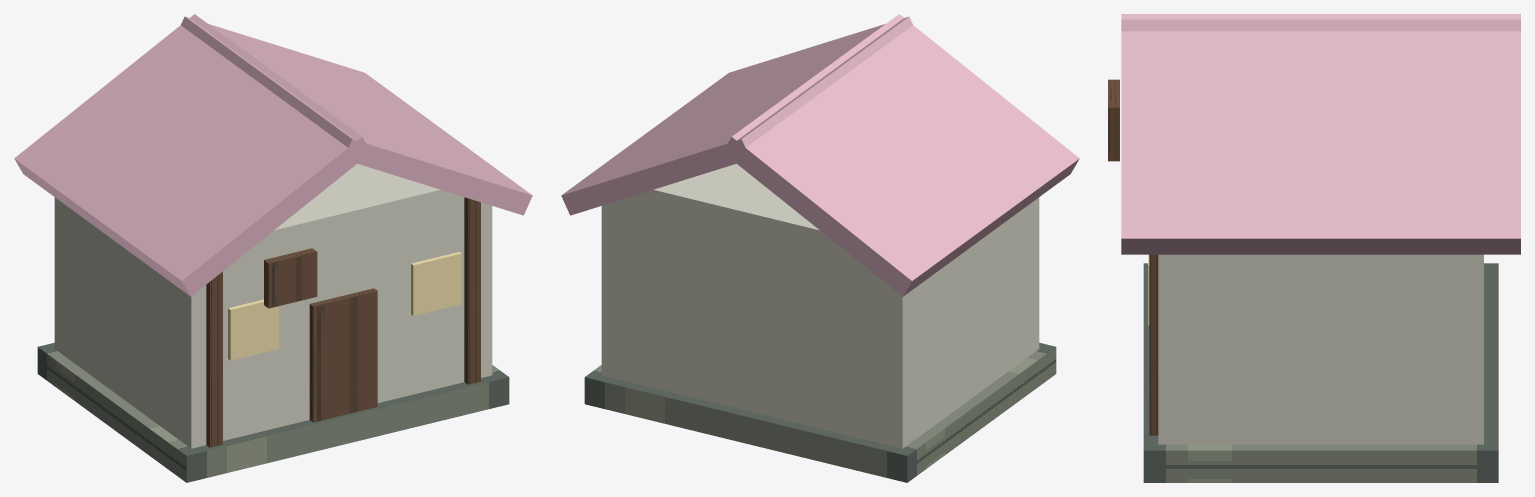
File: building_tavern.glb
The picture shows the model from 3 angles, left to right: view 1: azimuth 30°, elevation 25°; view 2: azimuth 150°, elevation 25°; view 3: azimuth 270°, elevation 25°; orthographic projection. The views are drawn at different scales.
Parts seen in each view (by area): view 1: Body.001, Roof.002, Roof.003, Foundation.001, Door.001, Timber.003, Timber.002, Window.003, Sign, Window.002; view 2: Body.001, Roof.002, Roof.003, Foundation.001; view 3: Roof.003, Body.001, Foundation.001, Roof.002, Timber.003, Sign.
Part boxes in pixels (bbox=[...]): Body.001: bbox=[54, 164, 492, 448]; Roof.002: bbox=[14, 14, 370, 296]; Roof.003: bbox=[181, 16, 532, 215]; Foundation.001: bbox=[37, 342, 509, 482]; Door.001: bbox=[309, 288, 377, 422]; Timber.003: bbox=[464, 197, 480, 384]; Timber.002: bbox=[206, 271, 222, 447]; Window.003: bbox=[411, 252, 461, 315]; Sign: bbox=[264, 248, 317, 308]; Window.002: bbox=[228, 299, 278, 360]; Body.001: bbox=[601, 164, 1039, 448]; Roof.002: bbox=[723, 14, 1079, 296]; Roof.003: bbox=[561, 16, 912, 215]; Foundation.001: bbox=[584, 342, 1056, 482]; Roof.003: bbox=[1121, 14, 1520, 254]; Body.001: bbox=[1158, 254, 1483, 444]; Foundation.001: bbox=[1143, 263, 1498, 482]; Roof.002: bbox=[1121, 19, 1520, 31]; Timber.003: bbox=[1149, 254, 1158, 435]; Sign: bbox=[1108, 79, 1119, 161].
Bounding box in the file's own units: 3.26 × 2.78 × 2.79.
Materials: 5 (2 with a texture image).
